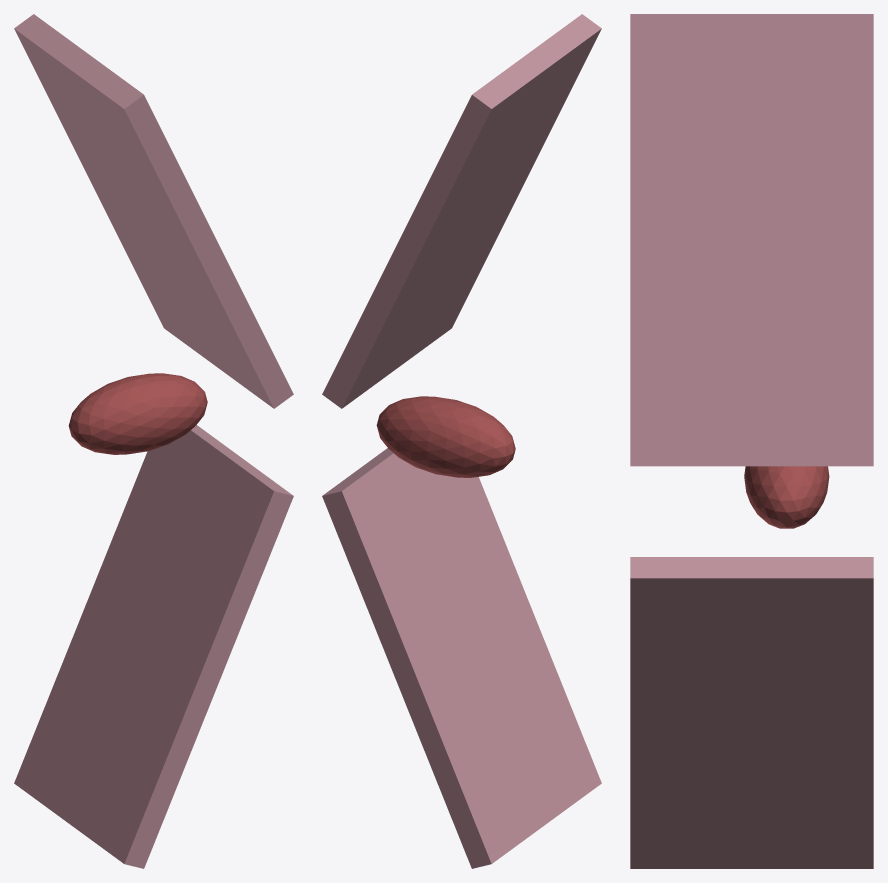
Rendered from mariposa_invertebrado.glb.
3 renders of one model, left to right at view 1: azimuth 30°, elevation 25°; view 2: azimuth 150°, elevation 25°; view 3: azimuth 270°, elevation 25°, orthographic. The views are drawn at different scales.
Parts seen in each view (by area): view 1: world; view 2: world; view 3: world.
Boxes of the visible parts, left/top/right/bottom form: world: left=14, top=14, right=293, bottom=868; world: left=322, top=14, right=601, bottom=868; world: left=630, top=14, right=873, bottom=868.
Size of the model in its own units: 0.6219 by 2.71 by 0.7.
